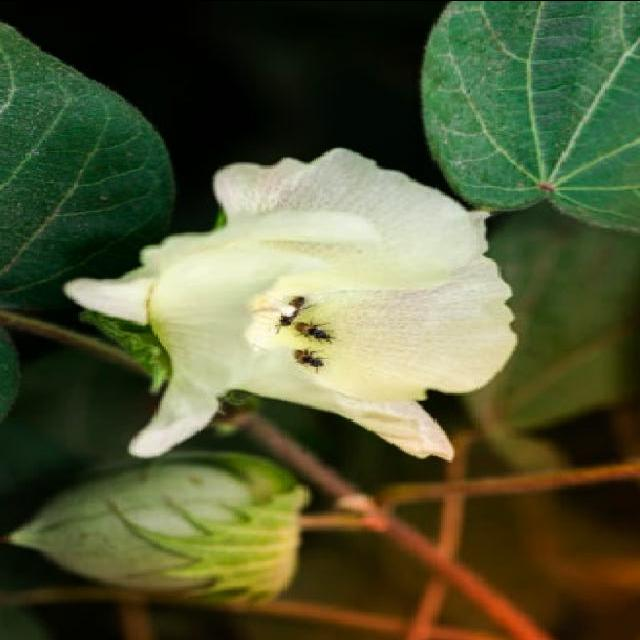Cotton Blossom: (84, 157, 504, 443)
Early Boll: (24, 443, 307, 608)
